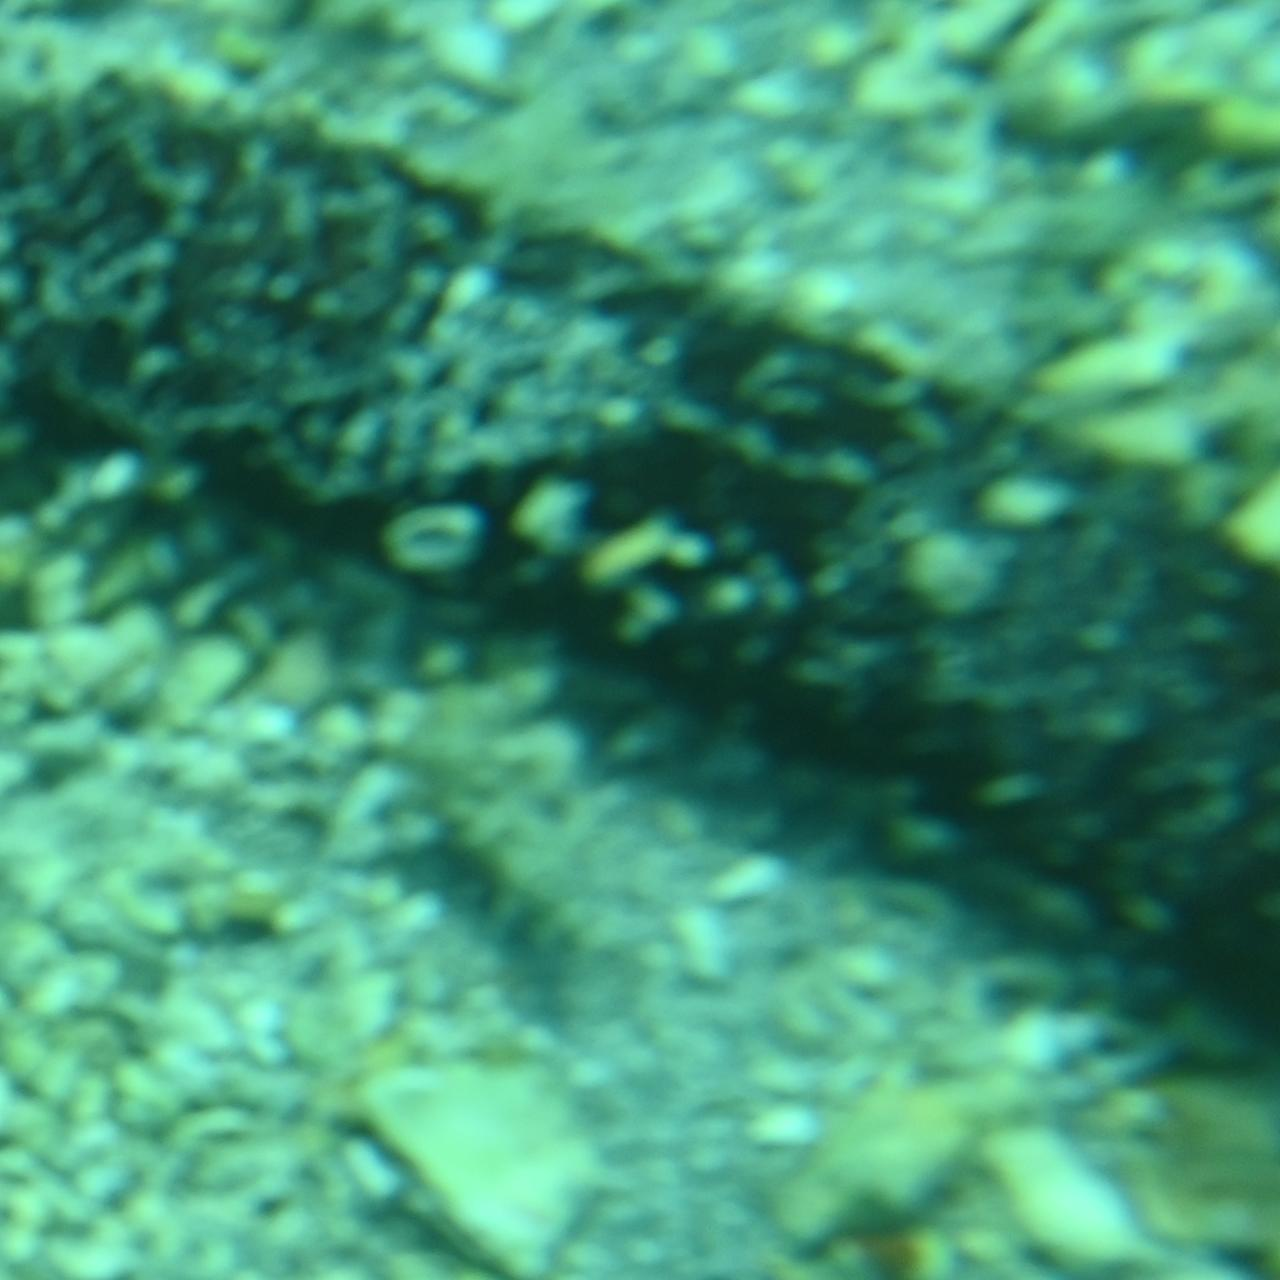Holothuria tubulosa: (0, 73, 1280, 1207)
